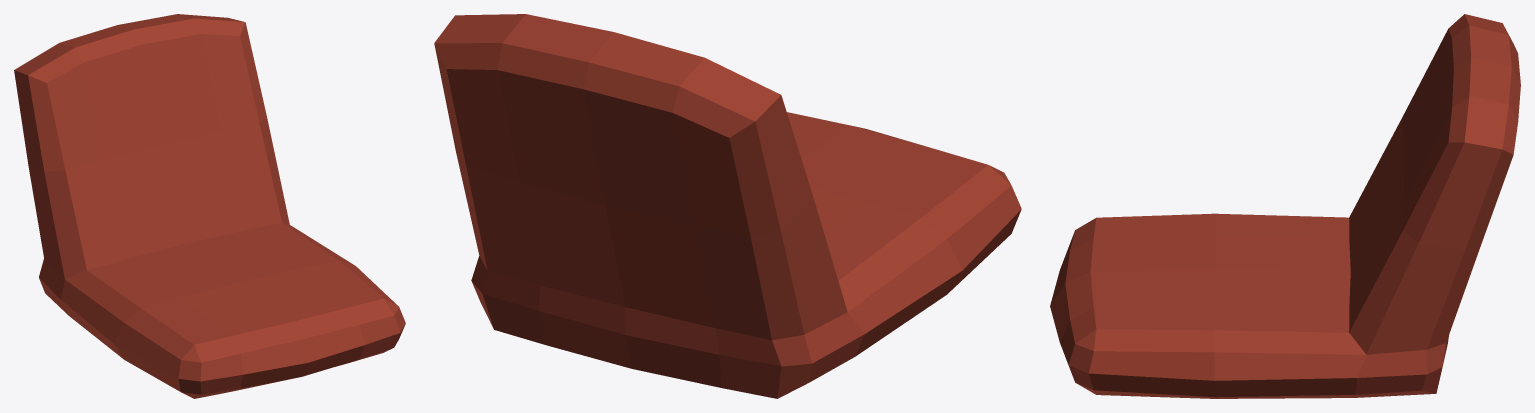
Rendered from Personal_Vehicle_02_Seat_Red.fbx.
3 views of the same model, side by side, from view 1: azimuth 30°, elevation 25°; view 2: azimuth 150°, elevation 25°; view 3: azimuth 270°, elevation 25° (orthographic). The views are drawn at different scales.
Visible parts, largest first — view 1: Personal_Vehicle_02_Seat_Red; view 2: Personal_Vehicle_02_Seat_Red; view 3: Personal_Vehicle_02_Seat_Red.
Boxes of the visible parts, bbox=[...] form: Personal_Vehicle_02_Seat_Red: bbox=[14, 14, 405, 398]; Personal_Vehicle_02_Seat_Red: bbox=[434, 14, 1021, 398]; Personal_Vehicle_02_Seat_Red: bbox=[1050, 14, 1520, 398].
Bounding box in the file's own units: 71.75 × 64.43 × 95.77.
1 material, 1 textured.
